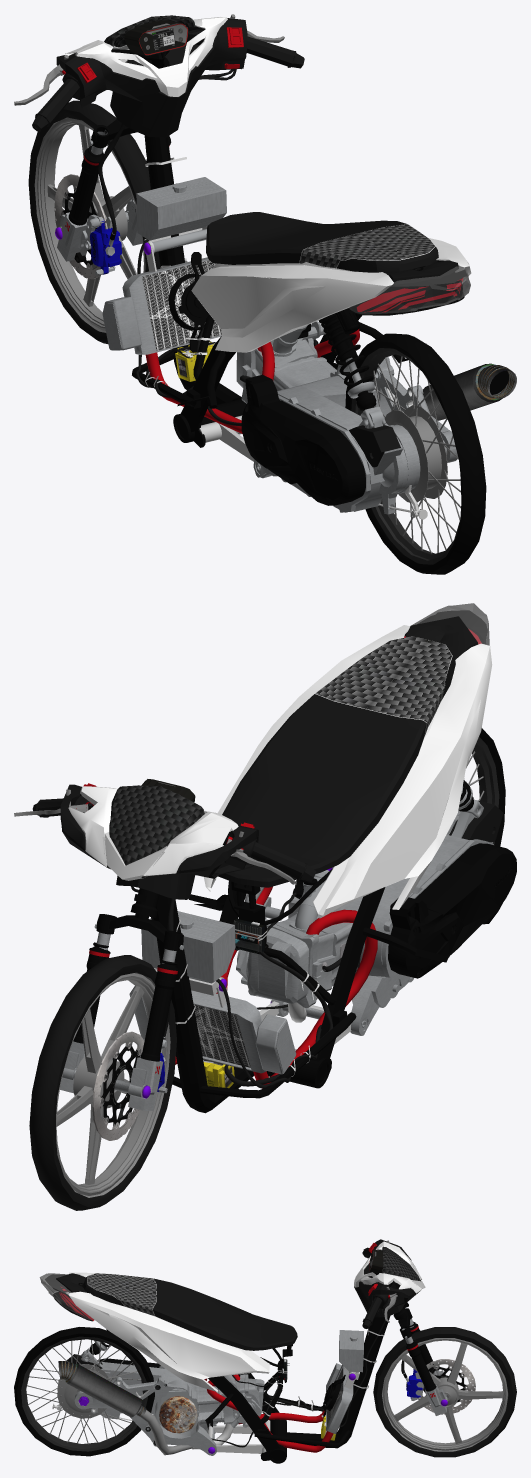
The model's file is BISAYA DRAGSPEC.glb.
3 renders of one model, top to bottom at view 1: azimuth 30°, elevation 25°; view 2: azimuth 150°, elevation 25°; view 3: azimuth 270°, elevation 25°, orthographic. The views are drawn at different scales.
Parts seen in each view (by area): view 1: engine, roda_belakang.001, body_samping, batok, Plane, rcb.ft(modded), radiator, rangka.001, Cube.005, front_suspension, mika_stoplamp, back_suspension (+12 smaller); view 2: Plane, engine, body_samping, rcb.ft(modded), batok, rangka.001, radiator, front_suspension, Cube.005, front_brake, stang.001, roda_belakang.001 (+7 smaller); view 3: body_samping, rcb.ft(modded), Plane, roda_belakang.001, engine, rangka.001, batok, Circle.003, front_suspension, radiator, magnet, swing_arm (+13 smaller).
Part boxes in pixels (x1=…): engine: x1=236, y1=321, x2=420, y2=514; roda_belakang.001: x1=345, y1=333, x2=486, y2=574; body_samping: x1=191, y1=238, x2=471, y2=352; batok: x1=56, y1=15, x2=247, y2=137; Plane: x1=206, y1=212, x2=438, y2=272; rcb.ft(modded): x1=28, y1=100, x2=160, y2=343; radiator: x1=102, y1=227, x2=221, y2=354; rangka.001: x1=132, y1=57, x2=454, y2=447; Cube.005: x1=136, y1=177, x2=226, y2=240; front_suspension: x1=57, y1=52, x2=171, y2=262; mika_stoplamp: x1=349, y1=266, x2=470, y2=314; back_suspension: x1=318, y1=307, x2=385, y2=428; Plane: x1=218, y1=636, x2=455, y2=887; engine: x1=236, y1=800, x2=516, y2=1035; body_samping: x1=204, y1=616, x2=492, y2=918; rcb.ft(modded): x1=29, y1=955, x2=176, y2=1210; batok: x1=60, y1=783, x2=258, y2=899; rangka.001: x1=130, y1=641, x2=448, y2=1113; radiator: x1=129, y1=968, x2=296, y2=1074; front_suspension: x1=60, y1=913, x2=183, y2=1110; Cube.005: x1=141, y1=911, x2=235, y2=982; front_brake: x1=92, y1=1031, x2=144, y2=1140; stang.001: x1=14, y1=789, x2=316, y2=884; roda_belakang.001: x1=464, y1=728, x2=505, y2=846; body_samping: x1=56, y1=1272, x2=269, y2=1391; rcb.ft(modded): x1=373, y1=1327, x2=516, y2=1457; Plane: x1=84, y1=1273, x2=297, y2=1350; roda_belakang.001: x1=14, y1=1327, x2=154, y2=1456; engine: x1=67, y1=1350, x2=264, y2=1455; rangka.001: x1=78, y1=1276, x2=408, y2=1463; batok: x1=354, y1=1239, x2=425, y2=1317; Circle.003: x1=58, y1=1361, x2=146, y2=1417; front_suspension: x1=374, y1=1273, x2=447, y2=1415; radiator: x1=322, y1=1363, x2=359, y2=1434; magnet: x1=159, y1=1396, x2=197, y2=1433; swing_arm: x1=74, y1=1377, x2=157, y2=1441.
Bounding box in the file's own units: 0.8058 × 1.02 × 2.27.
Materials: 30 (12 with a texture image).
